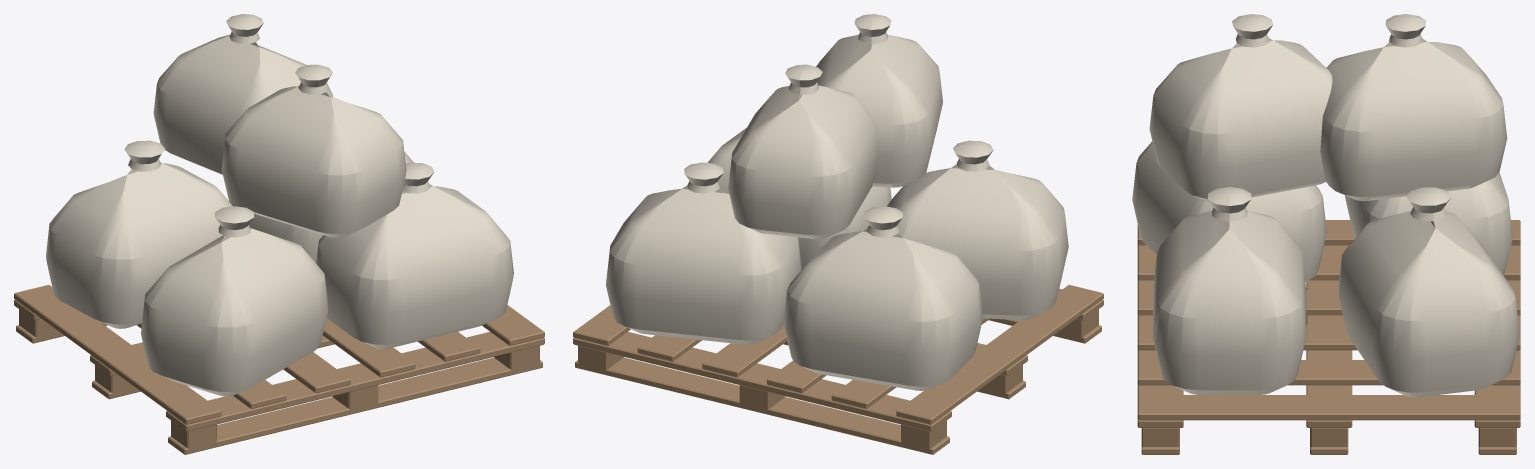
File: bar-pub-and-brewery-taproom-grain-sack-stack-e6d462ae__18406.glb
3 renders of one model, left to right at view 1: azimuth 30°, elevation 25°; view 2: azimuth 150°, elevation 25°; view 3: azimuth 270°, elevation 25°, orthographic. The views are drawn at different scales.
Visible parts, largest first — view 1: grain-sack-stack; view 2: grain-sack-stack; view 3: grain-sack-stack.
Boxes of the visible parts, x1,y1,x2,y2 form: grain-sack-stack: (14,14,544,454); grain-sack-stack: (573,14,1103,454); grain-sack-stack: (1132,14,1520,454).
Bounding box in the file's own units: 1.2 × 0.978 × 1.01.
